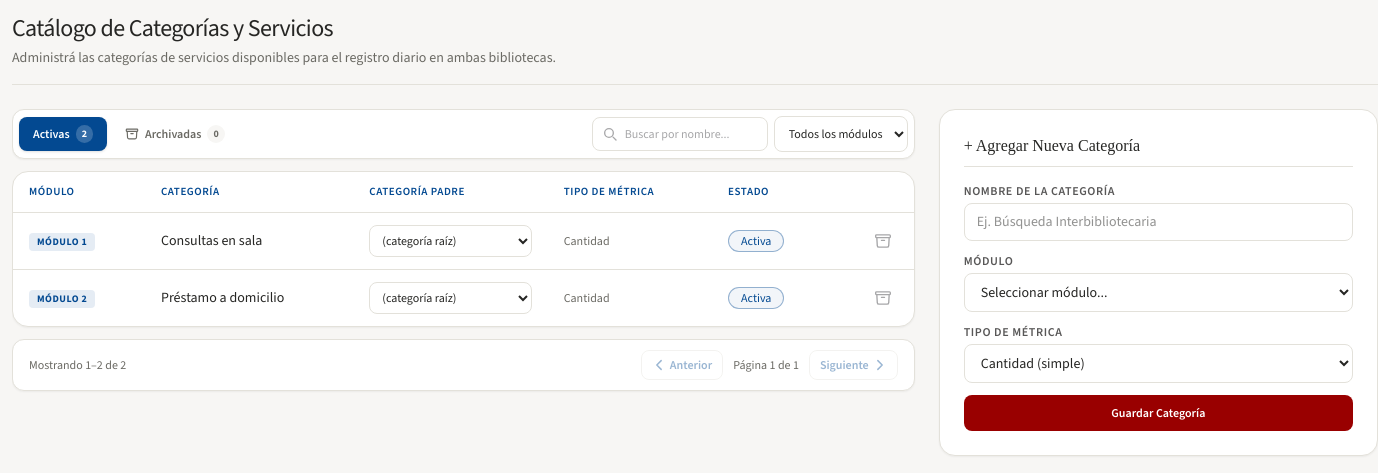
Test: CategoriesView › filtra por módulo
This screenshot has width=1378, height=473.
Expected: the text "Consultas en sala" is shown, [161, 231, 262, 250]
Select "Préstamos" in the dropdown named "Filtrar por módulo" at (841, 134), box [774, 116, 908, 152]
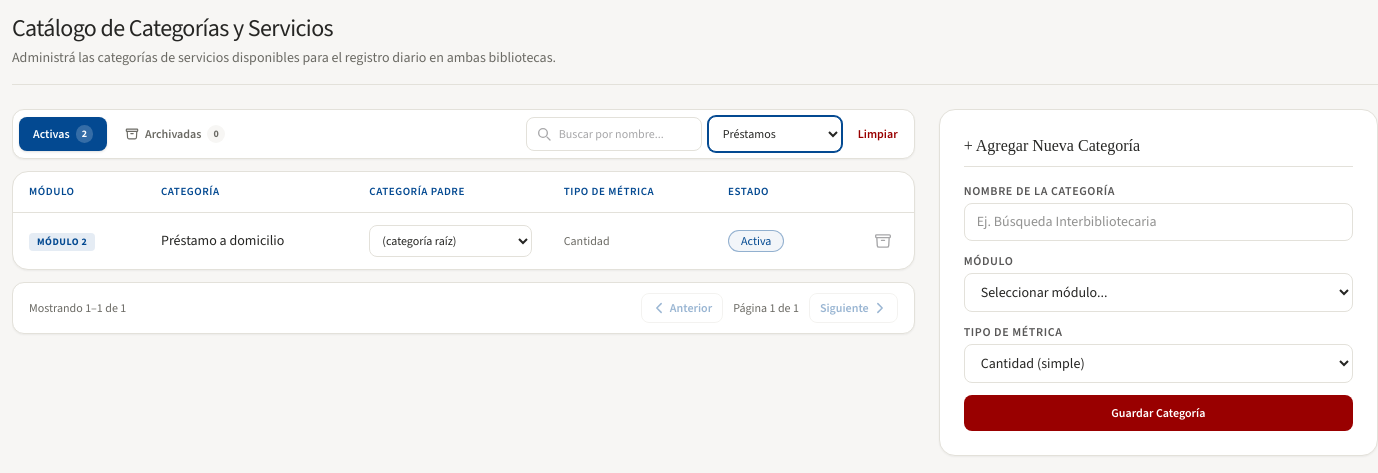
Expected: the text "Préstamo a domicilio" is shown, [161, 231, 284, 250]
Now the text "Consultas en sala" is gone
